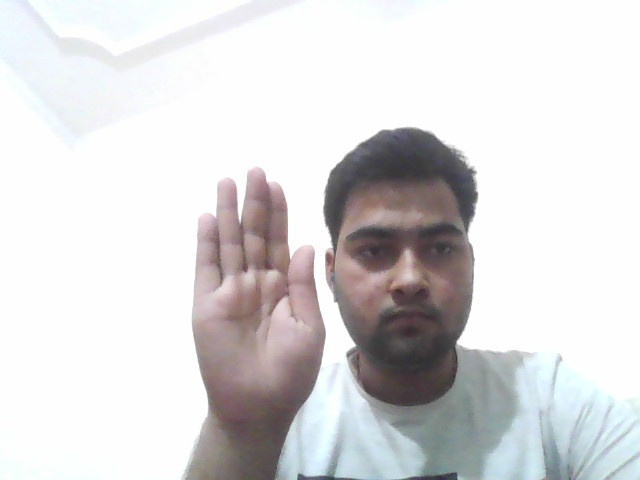Hello: (193, 161, 322, 417)
